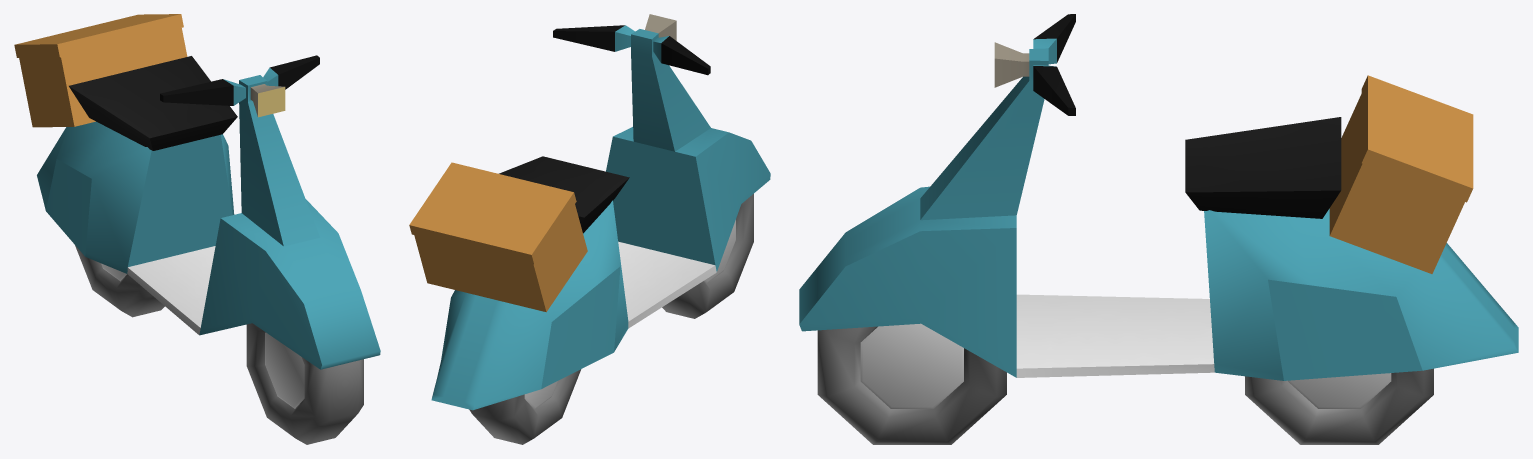
The model's file is MSH_Scoob.fbx.
3 views of the same model, side by side, from view 1: azimuth 30°, elevation 25°; view 2: azimuth 150°, elevation 25°; view 3: azimuth 270°, elevation 25° (orthographic). The views are drawn at different scales.
Parts seen in each view (by area): view 1: MSH_Scoob; view 2: MSH_Scoob; view 3: MSH_Scoob.
Boxes of the visible parts, left/top/right/bottom form: MSH_Scoob: left=14, top=14, right=380, bottom=444; MSH_Scoob: left=409, top=14, right=770, bottom=444; MSH_Scoob: left=799, top=14, right=1518, bottom=444.
Bounding box in the file's own units: 292 × 90.4 × 173.
